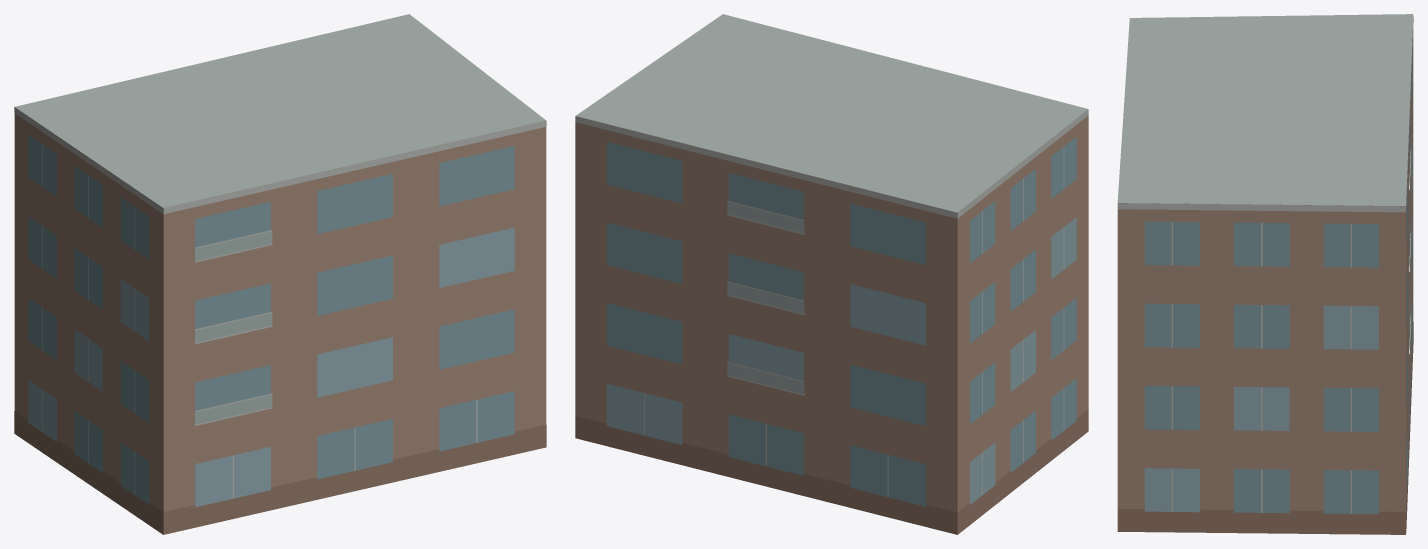
Rendered from survey-upis-32667165.glb.
3 renders of one model, left to right at view 1: azimuth 30°, elevation 25°; view 2: azimuth 150°, elevation 25°; view 3: azimuth 270°, elevation 25°, orthographic. The views are drawn at different scales.
Visible parts, largest first — view 1: survey-upis-32667165.tmp; view 2: survey-upis-32667165.tmp; view 3: survey-upis-32667165.tmp.
Part boxes in pixels (x1,y1,x2,y2): survey-upis-32667165.tmp: (14,14,546,534); survey-upis-32667165.tmp: (575,14,1088,534); survey-upis-32667165.tmp: (1117,14,1413,534).
Bounding box in the file's own units: 16.05 × 12.8 × 10.45.
